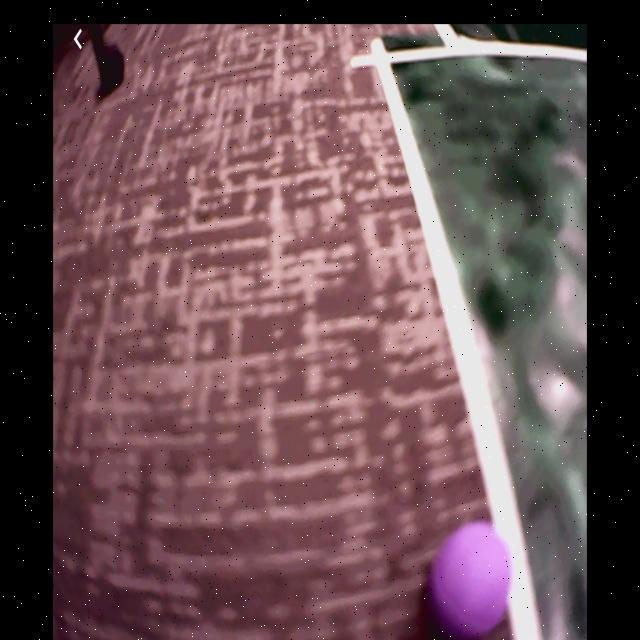ball: (428, 520, 514, 638)
